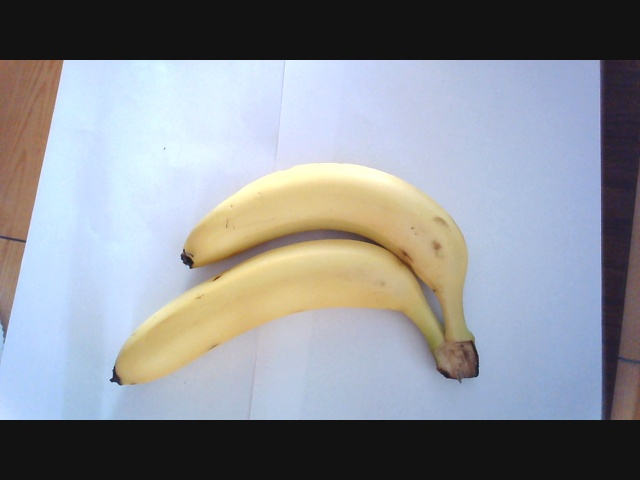banana: (112, 164, 480, 377)
